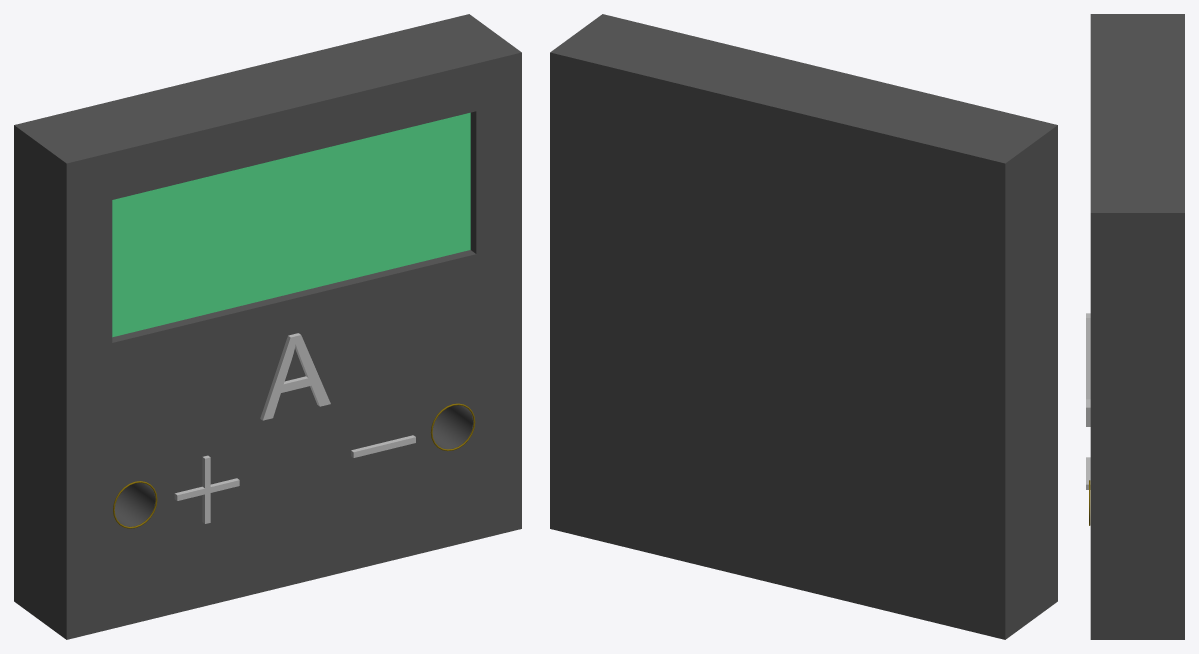
Rendered from amper.obj.
3 views of the same model, side by side, from view 1: azimuth 30°, elevation 25°; view 2: azimuth 150°, elevation 25°; view 3: azimuth 270°, elevation 25° (orthographic). The views are drawn at different scales.
Visible parts, largest first — view 1: Box001, Object, TextPlus001; view 2: Box001; view 3: Box001, TextPlus001.
Part boxes in pixels (left/top/right/bottom): Box001: left=14, top=14, right=521, bottom=639; Object: left=112, top=112, right=470, bottom=337; TextPlus001: left=260, top=333, right=330, bottom=420; Box001: left=550, top=14, right=1057, bottom=639; Box001: left=1090, top=14, right=1184, bottom=639; TextPlus001: left=1086, top=313, right=1090, bottom=399.
Size of the model in its own units: 10 by 10 by 2.1.
